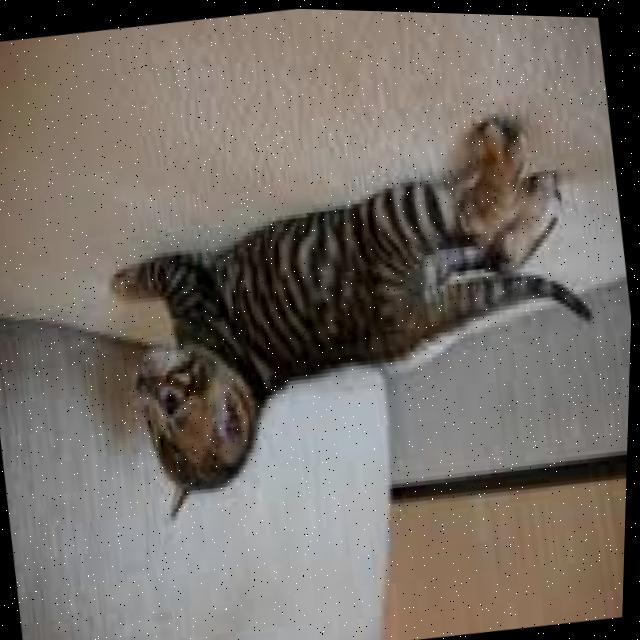Toyger: (90, 89, 623, 536)
